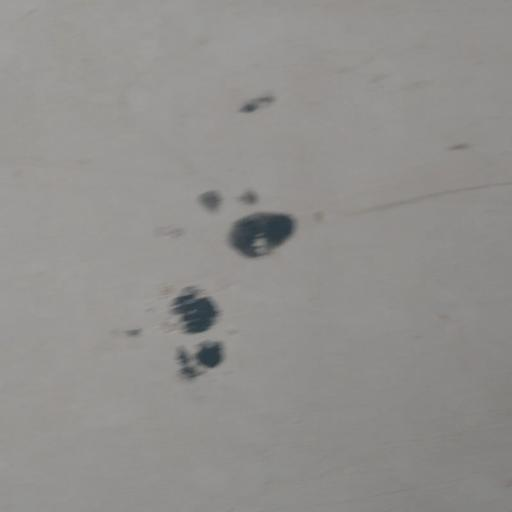stain: (78, 69, 309, 421), (328, 27, 477, 107), (306, 175, 512, 229), (431, 129, 486, 162)
